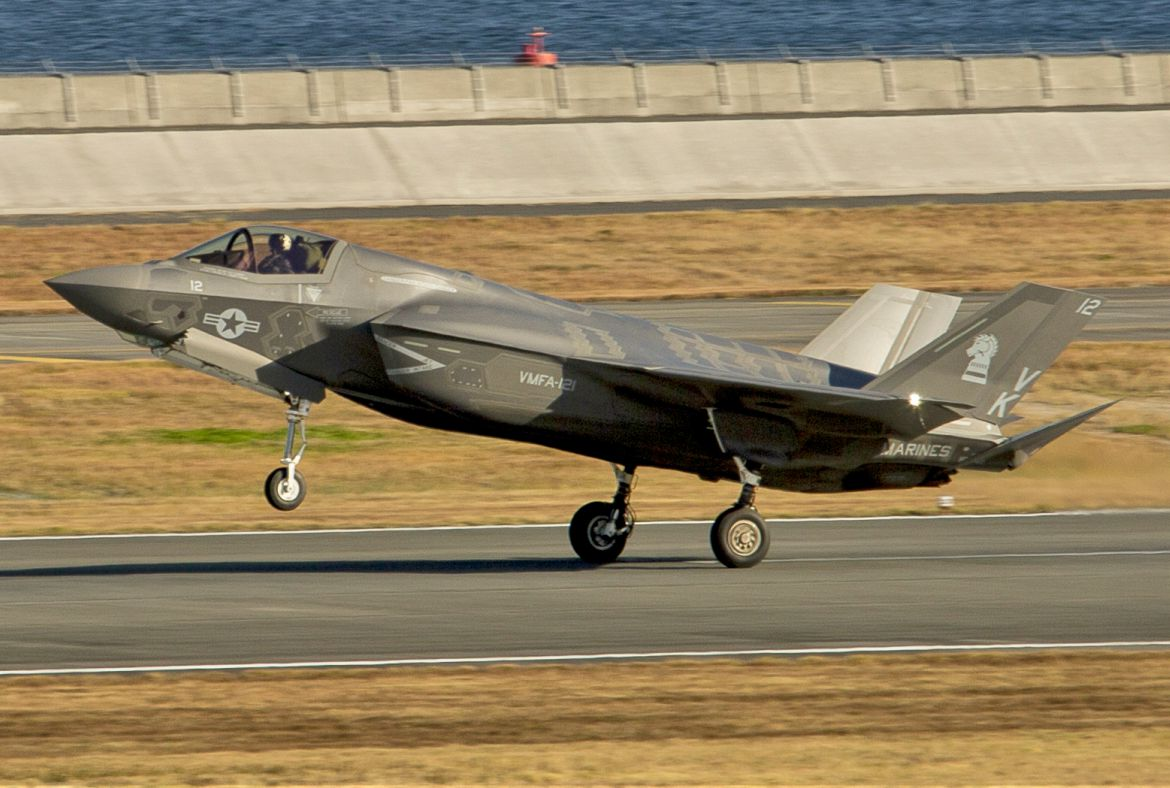F-35 Lightning: (42, 187, 1113, 590)
